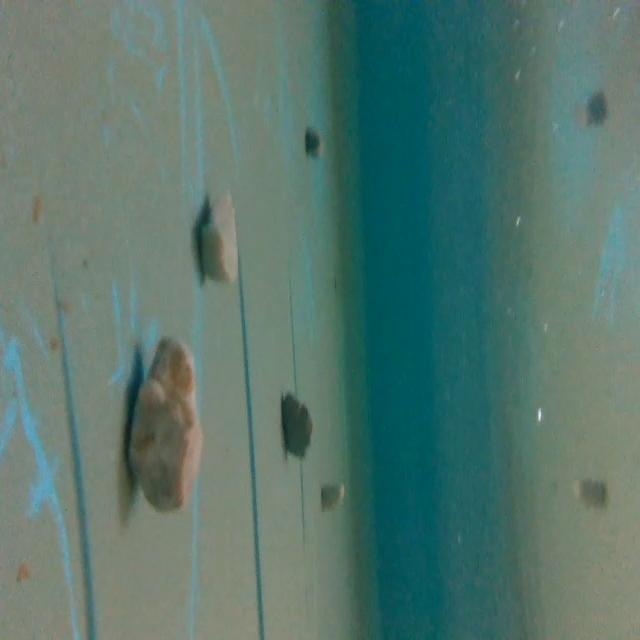rock: (115, 339, 218, 518), (193, 187, 247, 290), (273, 387, 318, 465), (300, 125, 324, 163)
